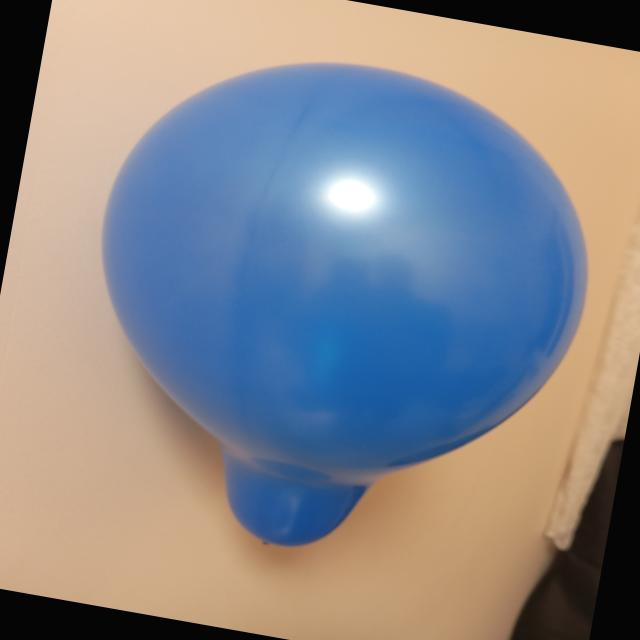balloon: (102, 63, 586, 545)
